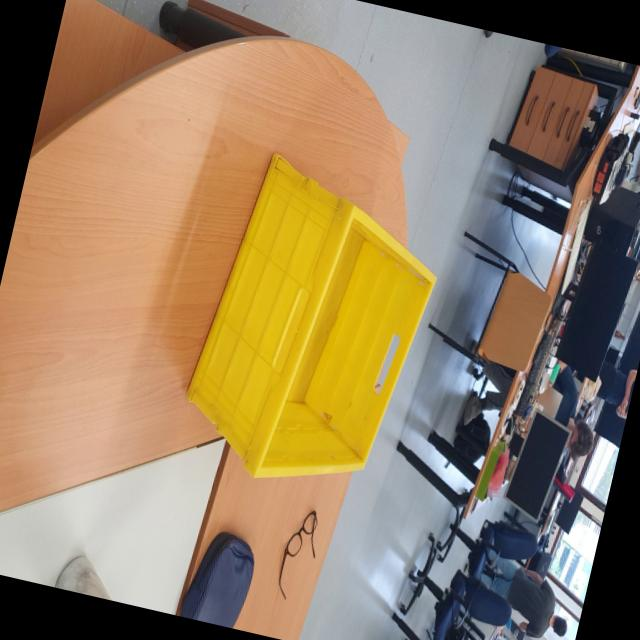box: (166, 127, 464, 516)
